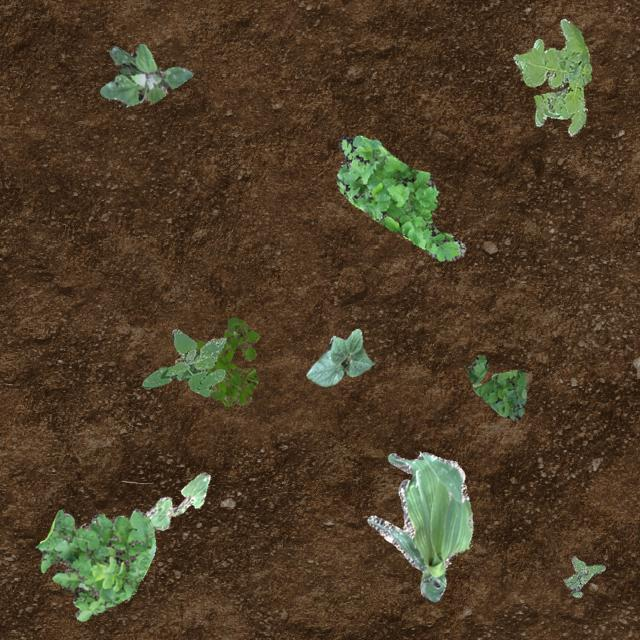crop: (366, 450, 472, 600), (306, 328, 374, 386), (143, 472, 210, 530)
weed: (336, 134, 464, 260), (34, 508, 154, 620), (512, 18, 590, 134), (174, 316, 258, 406), (99, 42, 192, 106), (142, 328, 226, 396), (464, 354, 526, 418), (562, 556, 604, 596)
